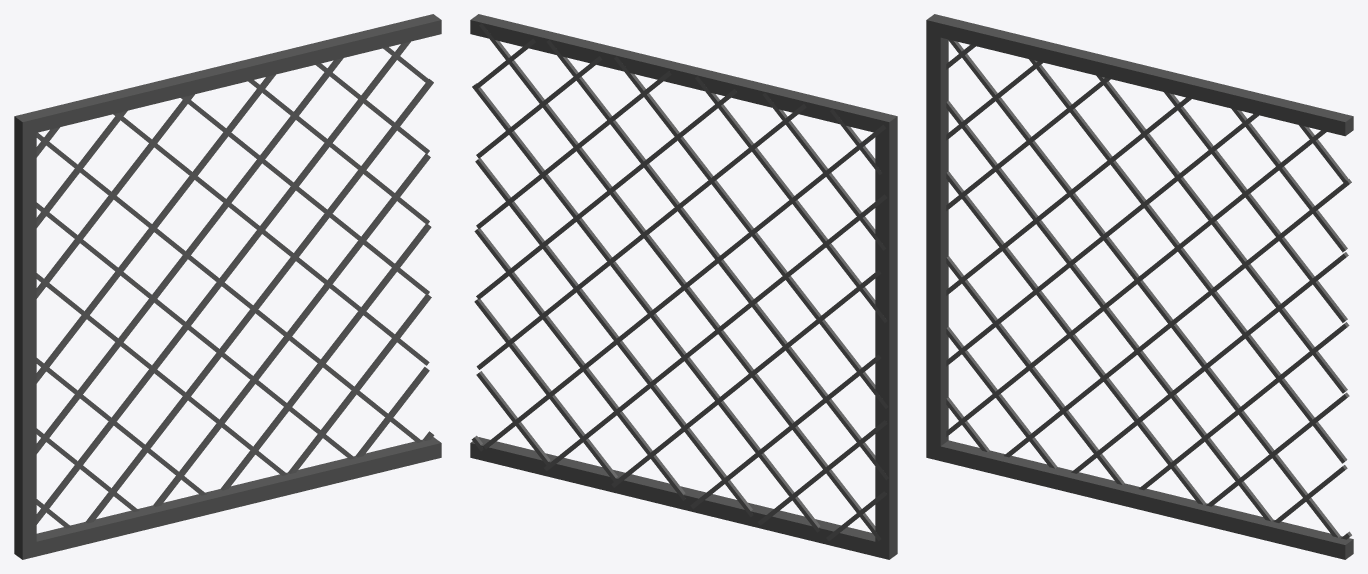
Rendered from Metal_Fence.fbx.
The picture shows the model from 3 angles, left to right: view 1: azimuth 30°, elevation 25°; view 2: azimuth 150°, elevation 25°; view 3: azimuth 330°, elevation 25°; orthographic projection.
Parts seen in each view (by area): view 1: Fence; view 2: Fence; view 3: Fence.
Part boxes in pixels (x1,y1,x2,y2): Fence: [14, 14, 441, 559]; Fence: [470, 14, 897, 559]; Fence: [926, 14, 1353, 559].
Size of the model in its own units: 4.66 by 4.65 by 0.1579.
